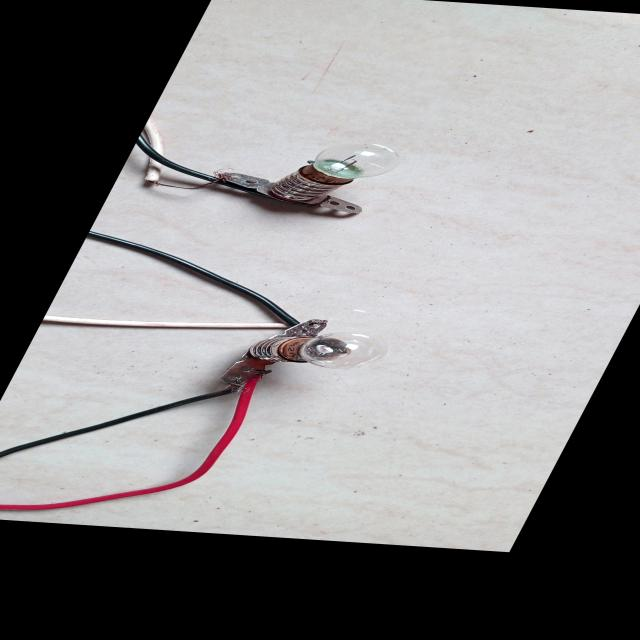Electric Bulbs: (129, 126, 499, 387)
